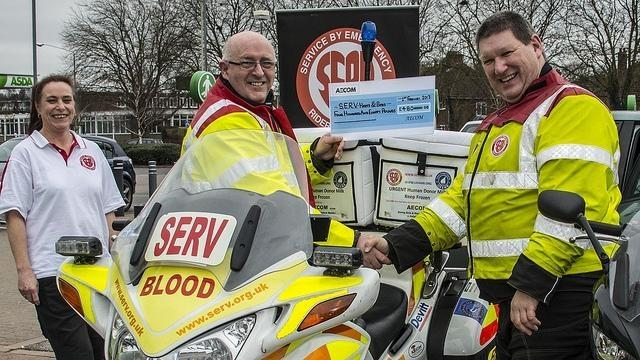car: (0, 136, 139, 212), (124, 138, 180, 147), (460, 120, 480, 135)
motorcycle: (55, 130, 501, 356), (539, 188, 640, 355)
